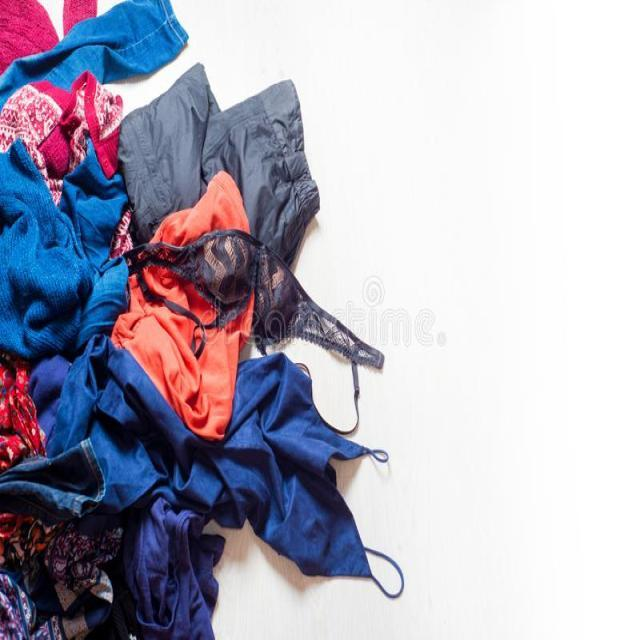clothes: (3, 12, 219, 640)
